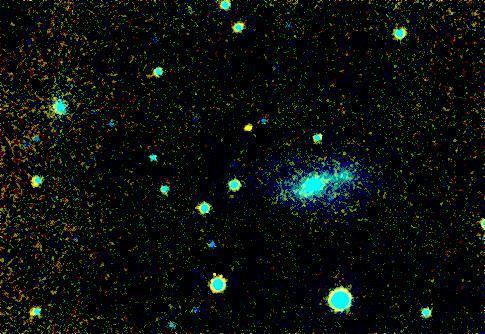star: (234, 112, 264, 142)
